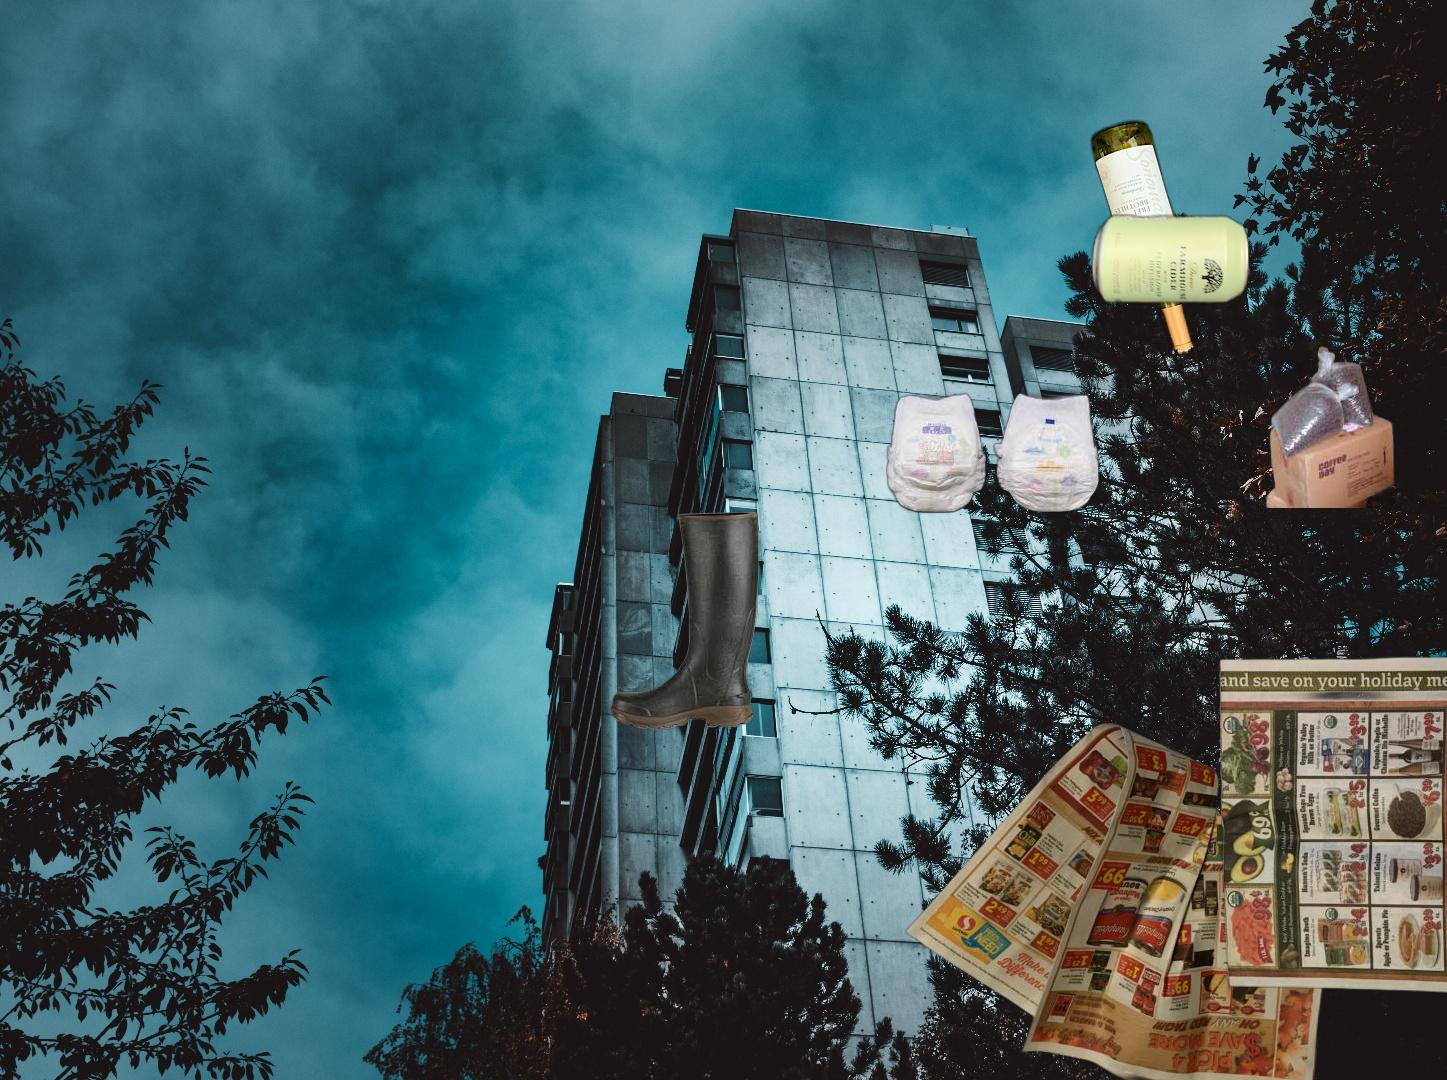glass: (1088, 116, 1198, 362)
metal-cans: (1088, 208, 1255, 309)
paper: (902, 722, 1330, 1080), (1215, 646, 1447, 1003)
shoes: (608, 508, 762, 733)
trash: (883, 390, 1105, 516)
trashbox-cardboard: (1210, 259, 1442, 508)
